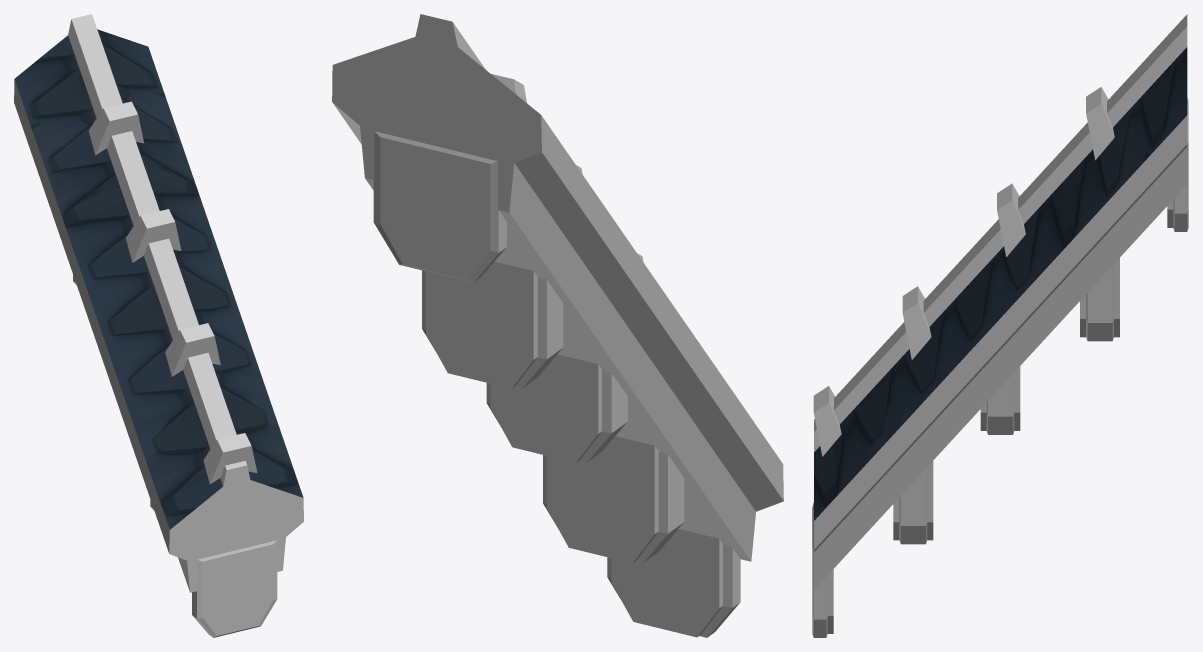
The model's file is SM_Bld_Roof_Cap_Angle_Half_01.fbx.
The picture shows the model from 3 angles, left to right: view 1: azimuth 30°, elevation 25°; view 2: azimuth 150°, elevation 25°; view 3: azimuth 270°, elevation 25°; orthographic projection. The views are drawn at different scales.
Visible parts, largest first — view 1: SM_Bld_Roof_Cap_Angle_Half_01; view 2: SM_Bld_Roof_Cap_Angle_Half_01; view 3: SM_Bld_Roof_Cap_Angle_Half_01.
Boxes of the visible parts, x1,y1,x2,y2 form: SM_Bld_Roof_Cap_Angle_Half_01: (14, 14, 303, 637); SM_Bld_Roof_Cap_Angle_Half_01: (332, 14, 783, 637); SM_Bld_Roof_Cap_Angle_Half_01: (812, 14, 1188, 637).
Bounding box in the file's own units: 62.62 × 223 × 126.
